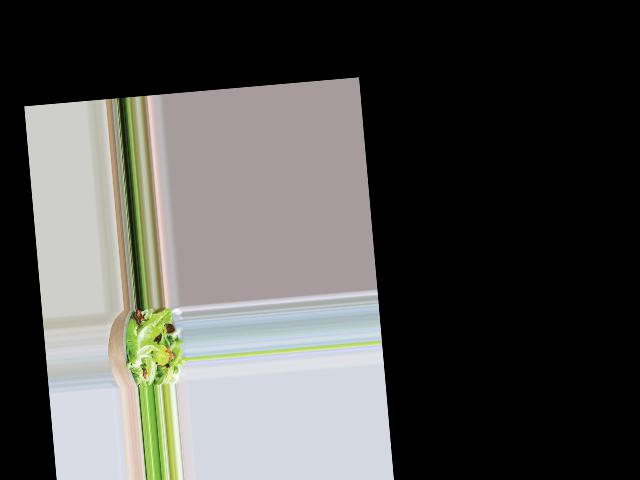lettuce: (123, 313, 183, 383)
